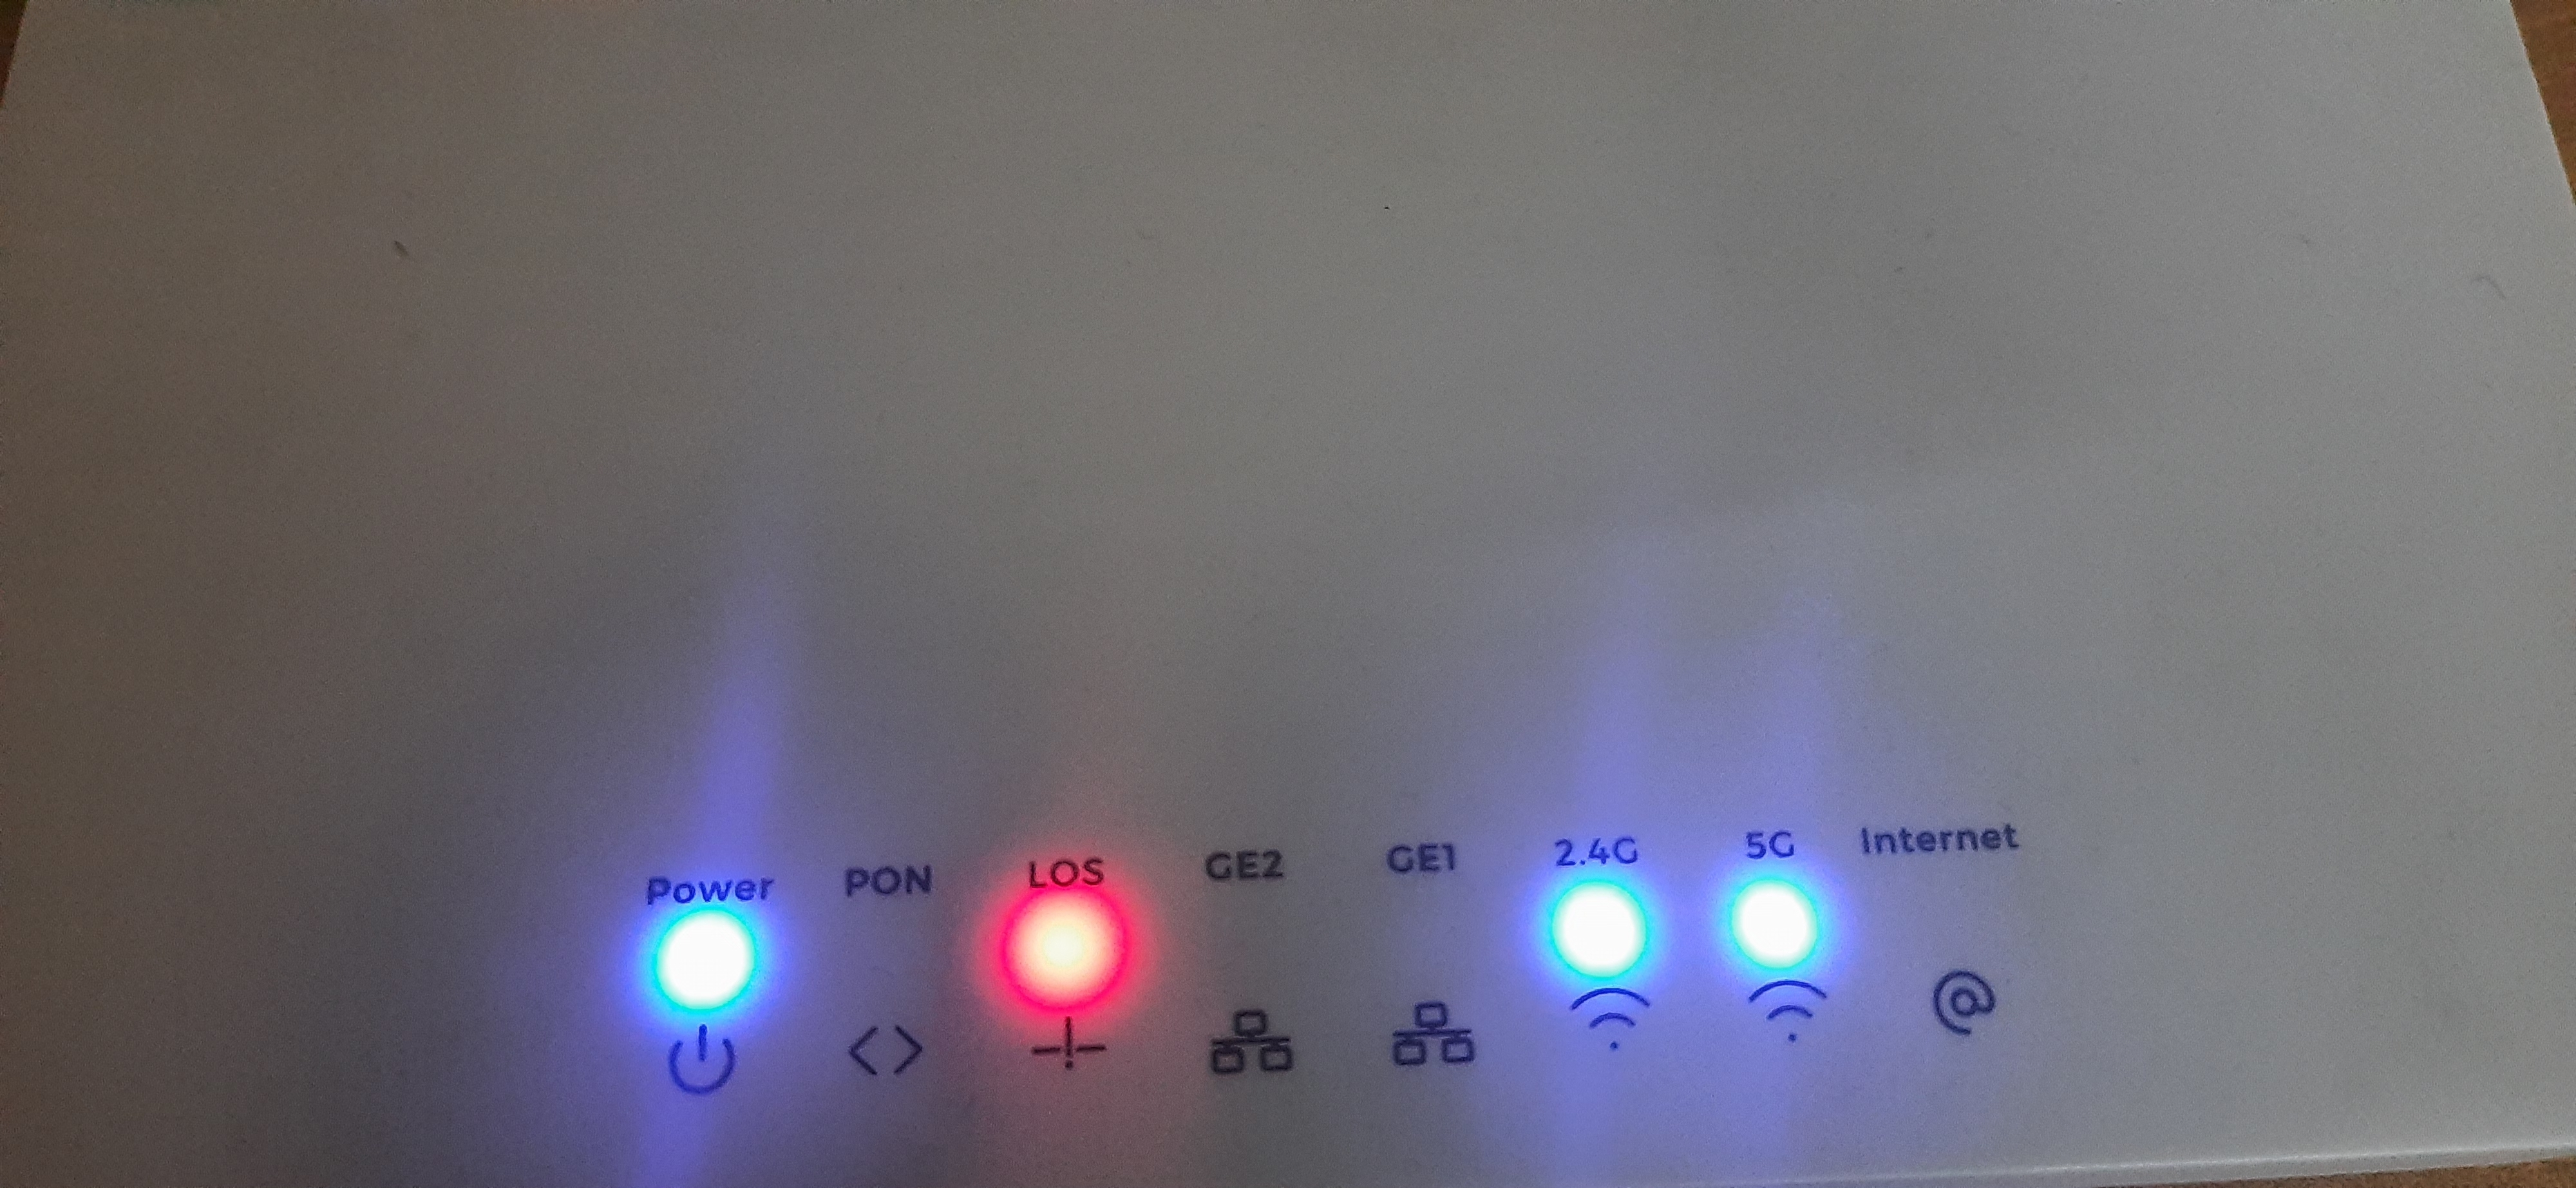LOSConnectionIssue: (943, 815, 1211, 1111)
